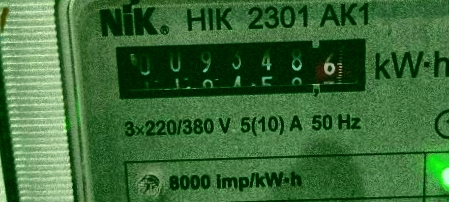0: (166, 48, 182, 72), (136, 49, 150, 76)
3: (227, 45, 242, 72)
4: (257, 44, 272, 72)
6: (319, 49, 337, 76)
8: (287, 44, 303, 73)
9: (196, 47, 212, 74)
screen: (105, 30, 376, 108)
